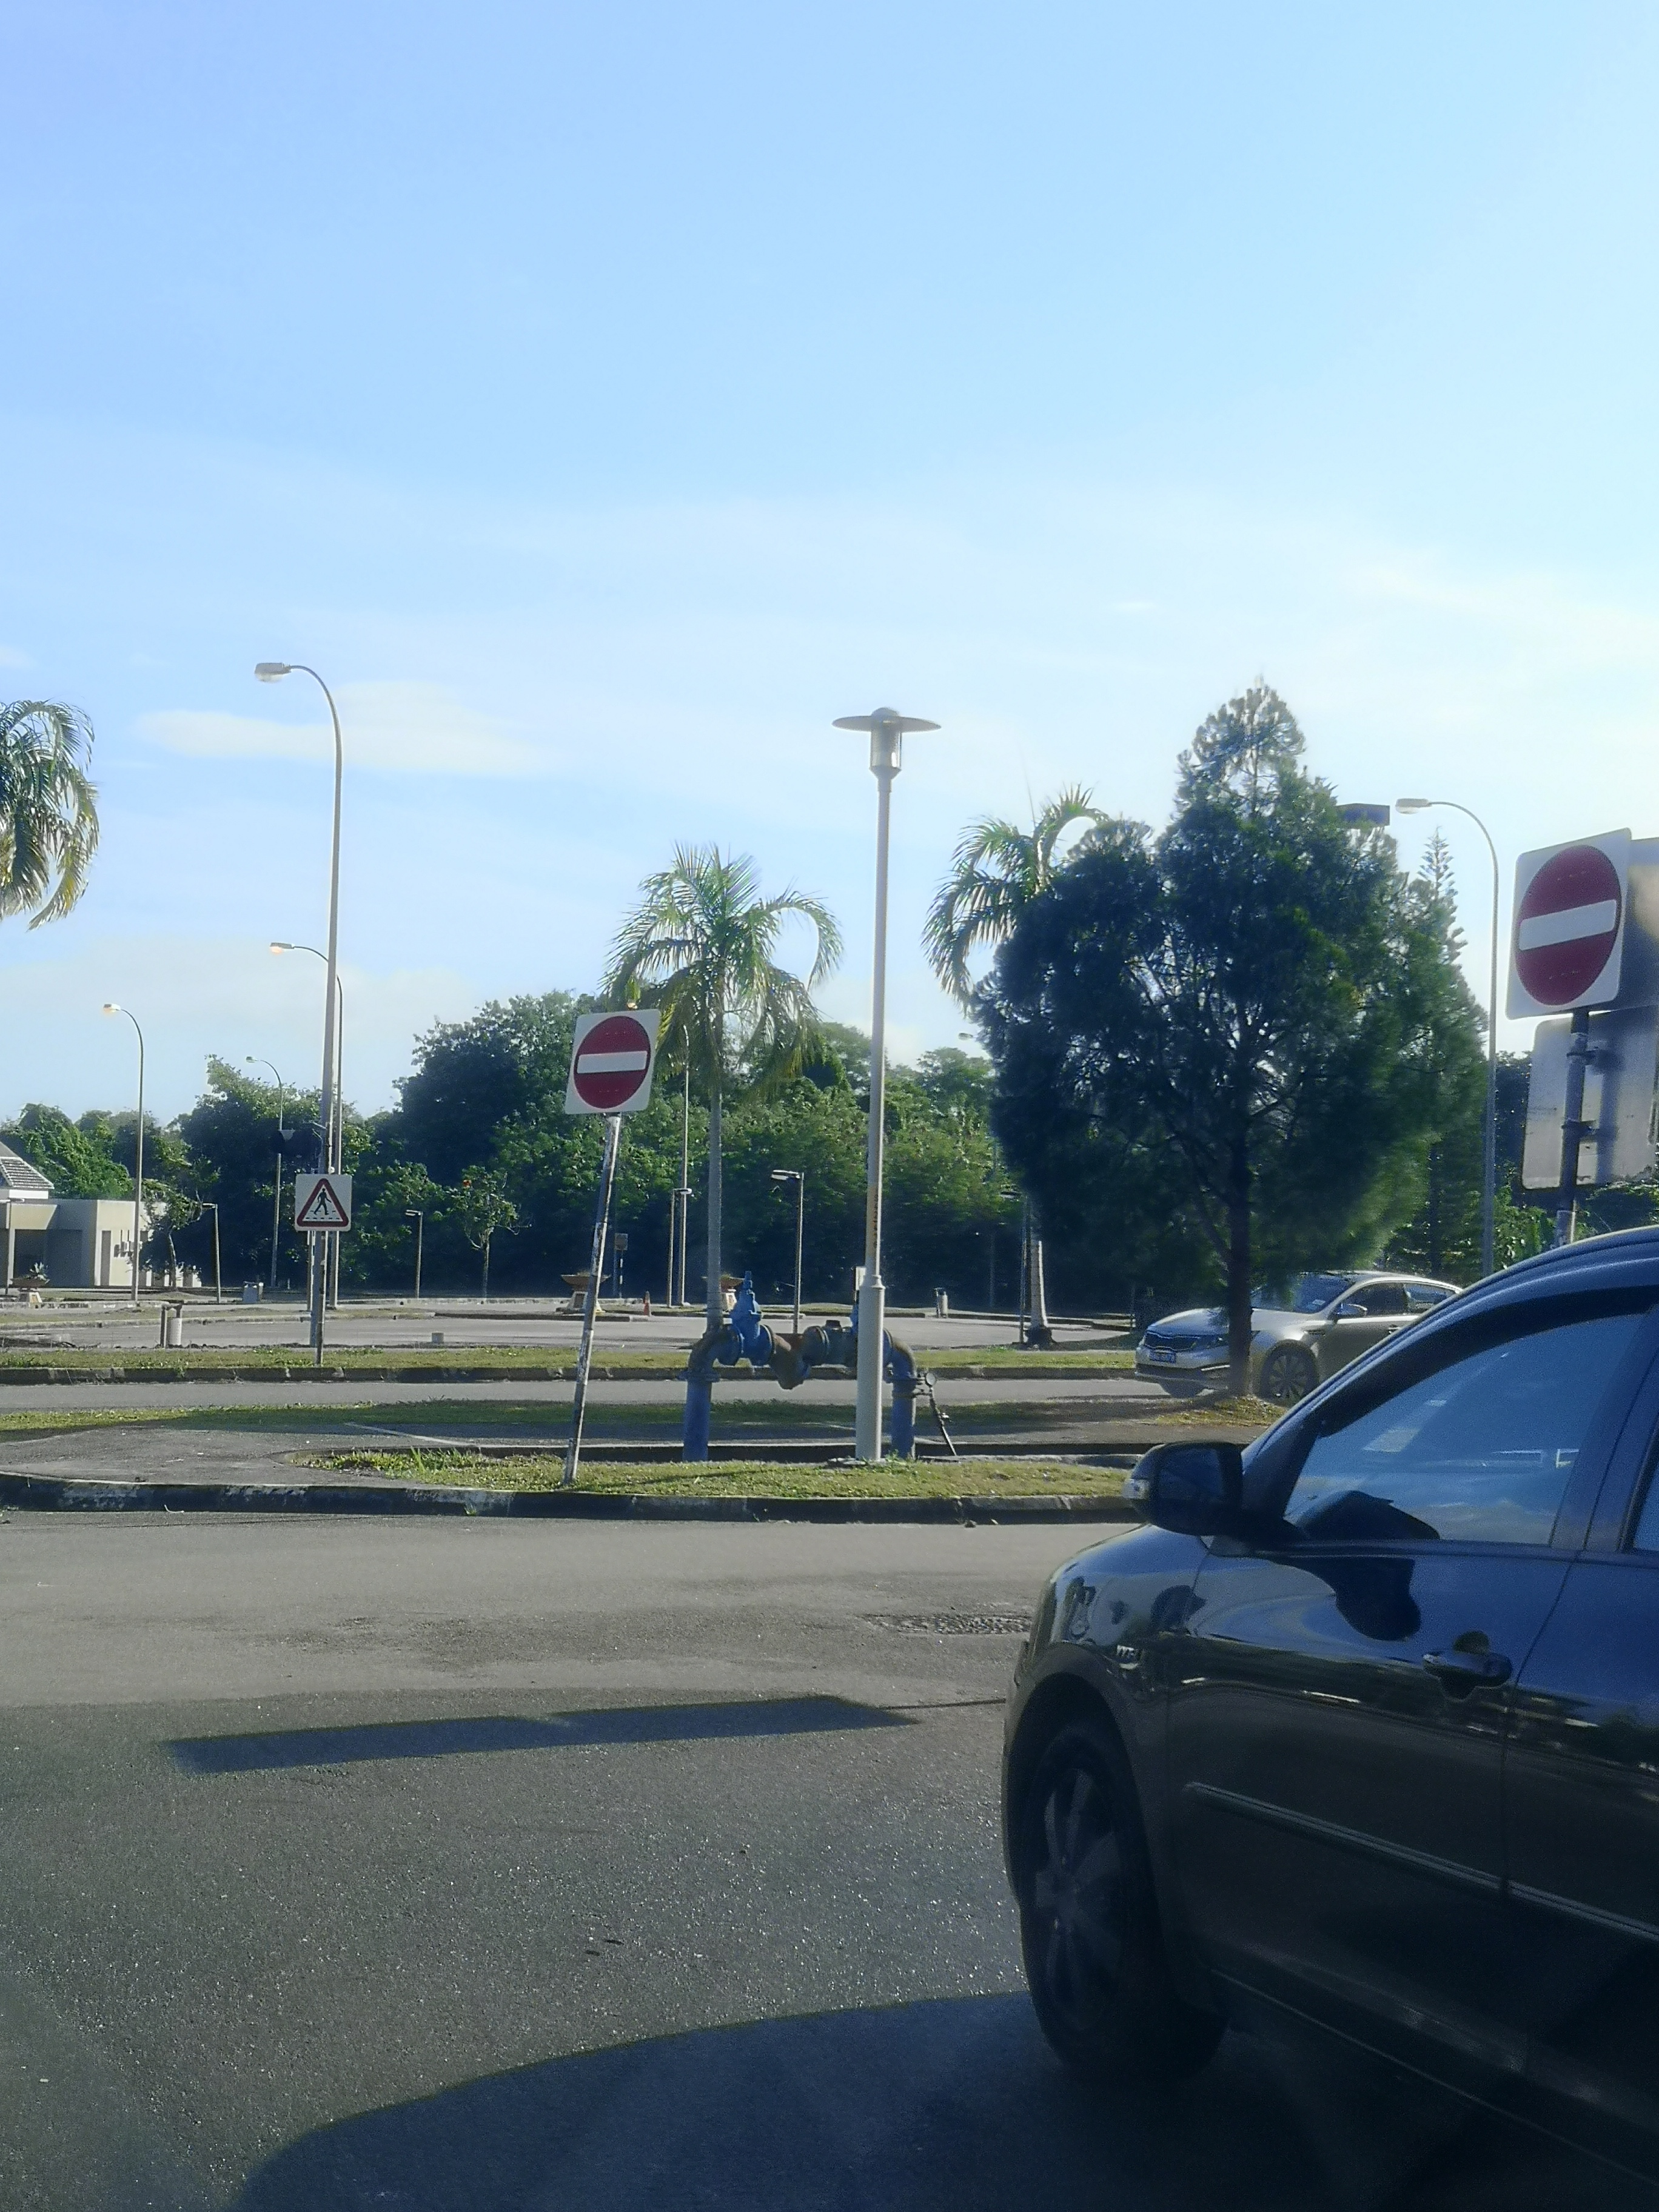no entry: (1509, 845, 1629, 1005), (565, 996, 647, 1111)
pedestrian crossing: (288, 1169, 357, 1238)
